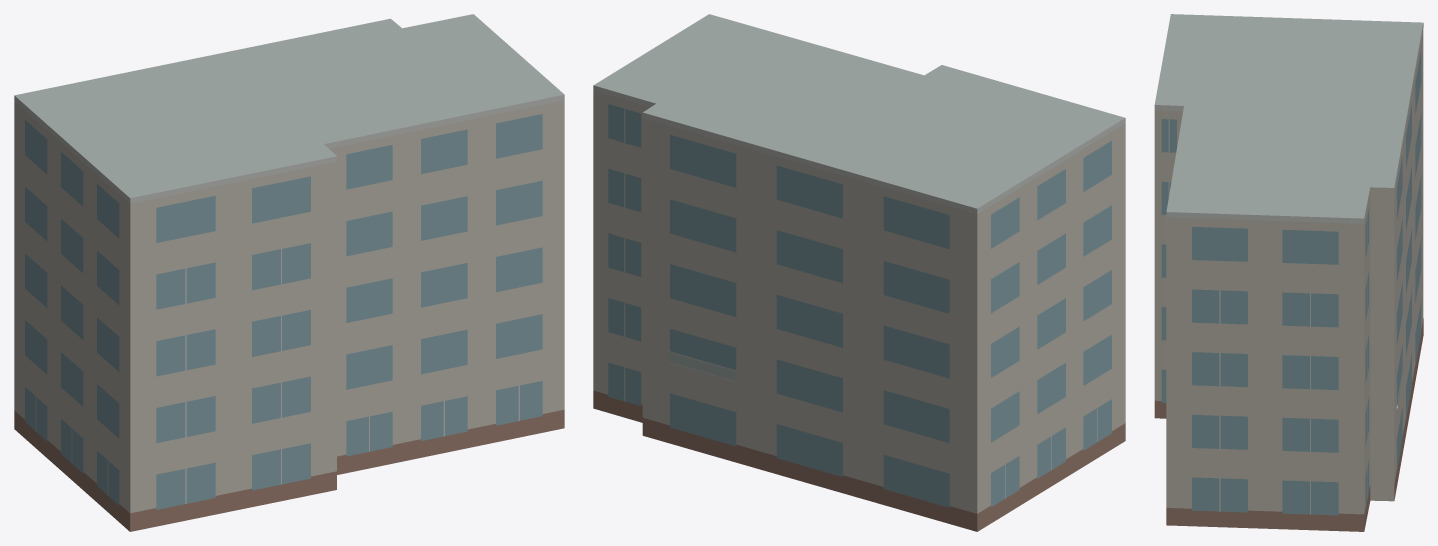
The model's file is survey-upis-32963832.glb.
The picture shows the model from 3 angles, left to right: view 1: azimuth 30°, elevation 25°; view 2: azimuth 150°, elevation 25°; view 3: azimuth 270°, elevation 25°; orthographic projection. The views are drawn at different scales.
Visible parts, largest first — view 1: survey-upis-32963832.tmp; view 2: survey-upis-32963832.tmp; view 3: survey-upis-32963832.tmp.
Part boxes in pixels (<box>): survey-upis-32963832.tmp: <box>14,14,564,531</box>; survey-upis-32963832.tmp: <box>593,14,1125,531</box>; survey-upis-32963832.tmp: <box>1154,14,1423,531</box>.
Size of the model in its own units: 20.24 by 14.45 by 11.24.
